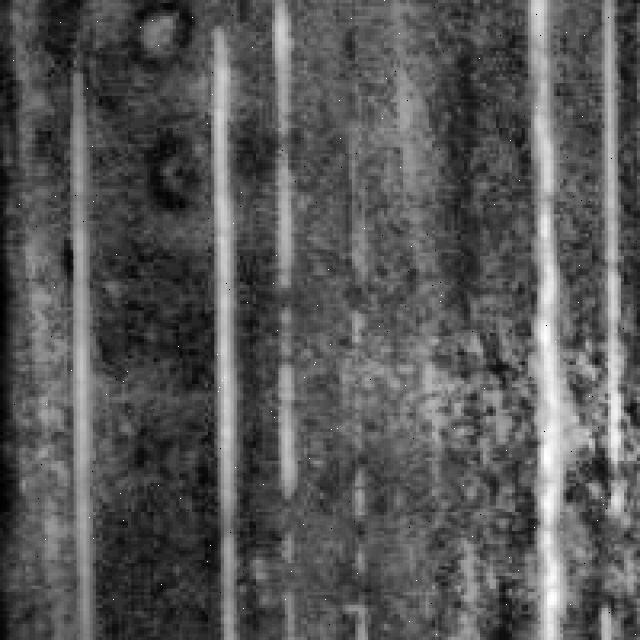Inclusion: (524, 0, 580, 634), (202, 45, 256, 637), (67, 70, 106, 637)
